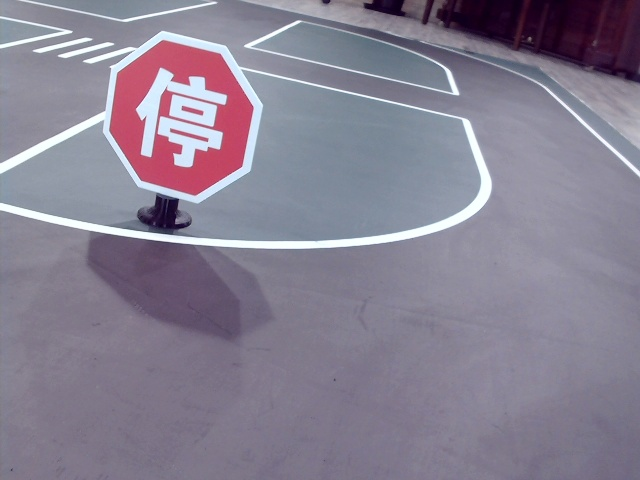stop: (133, 61, 228, 164)
